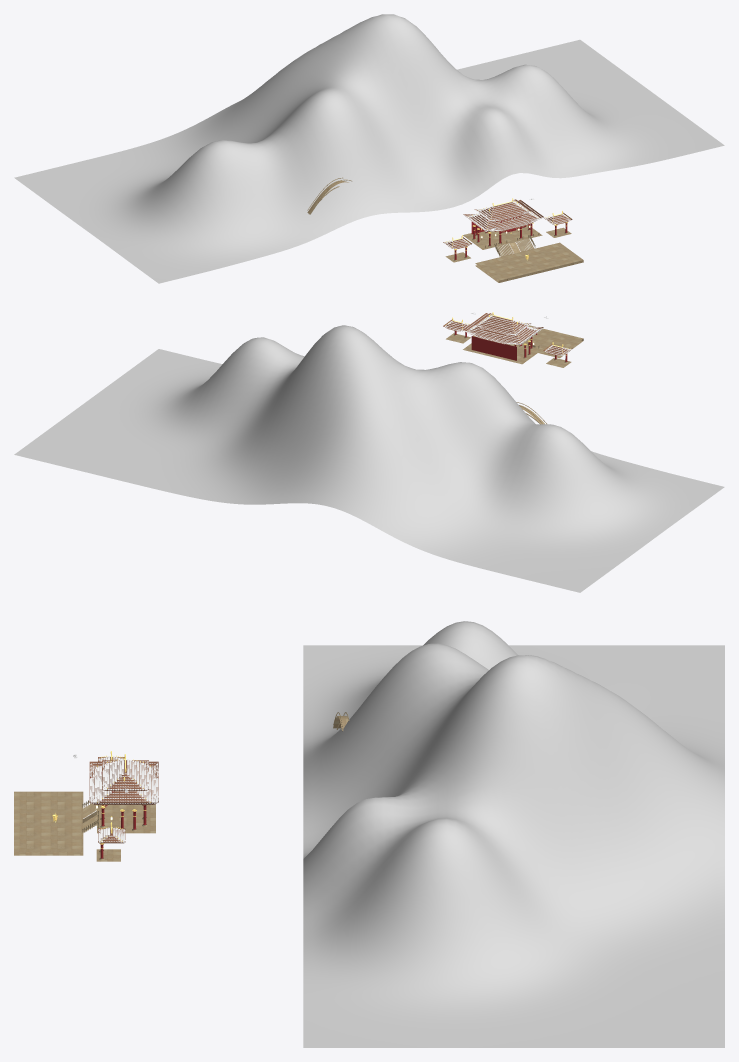
Rendered from hall.glb.
The picture shows the model from 3 angles, top to bottom: view 1: azimuth 30°, elevation 25°; view 2: azimuth 150°, elevation 25°; view 3: azimuth 270°, elevation 25°; orthographic projection. The views are drawn at different scales.
Parts seen in each view (by area): view 1: DecorPeaks, WalkPlaza, WalkPlatform, RoofLCloak, RoofLTiles, RoofUCloak, RoofUTiles; view 2: DecorPeaks, RoofLCloak, WalkPlaza, RoofLTiles, BlockWall, RoofUCloak, RoofUTiles, WalkPlatform; view 3: DecorPeaks, WalkPlaza, WalkPlatform, RoofLTiles, RoofUTiles, RoofLCloak, RoofUCloak.
Part boxes in pixels (<box>): DecorPeaks: <box>14,14,724,283</box>; WalkPlaza: <box>475,242,582,280</box>; WalkPlatform: <box>463,225,542,249</box>; RoofLCloak: <box>463,200,543,231</box>; RoofLTiles: <box>463,201,543,231</box>; RoofUCloak: <box>474,199,531,221</box>; RoofUTiles: <box>474,200,530,221</box>; DecorPeaks: <box>14,325,724,592</box>; RoofLCloak: <box>463,313,543,344</box>; WalkPlaza: <box>522,325,583,355</box>; RoofLTiles: <box>463,314,543,344</box>; BlockWall: <box>471,336,516,360</box>; RoofUCloak: <box>474,313,530,335</box>; RoofUTiles: <box>475,314,530,335</box>; WalkPlatform: <box>463,343,542,364</box>; DecorPeaks: <box>303,621,724,1047</box>; WalkPlaza: <box>14,791,83,851</box>; WalkPlatform: <box>97,804,155,833</box>; RoofLTiles: <box>90,762,158,804</box>; RoofUTiles: <box>102,759,148,790</box>; RoofLCloak: <box>89,761,158,804</box>; RoofUCloak: <box>102,760,148,790</box>.
Size of the model in its own units: 140 by 32.92 by 105.
10 materials, 1 textured.
